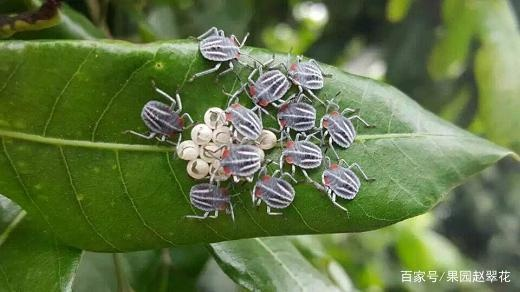Stink_Bug: (183, 109, 224, 174), (326, 158, 363, 216), (196, 23, 228, 75), (289, 53, 330, 93), (325, 107, 358, 154), (188, 186, 234, 218), (252, 64, 285, 107), (229, 97, 261, 140), (281, 98, 317, 135), (258, 173, 299, 205), (151, 99, 178, 141), (284, 145, 321, 173), (224, 145, 249, 179)
